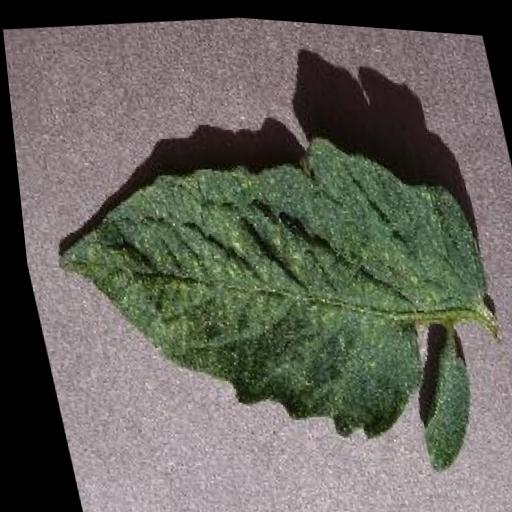Spider Mites: (26, 102, 512, 509)
